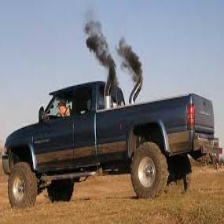smoke: (90, 28, 144, 91)
